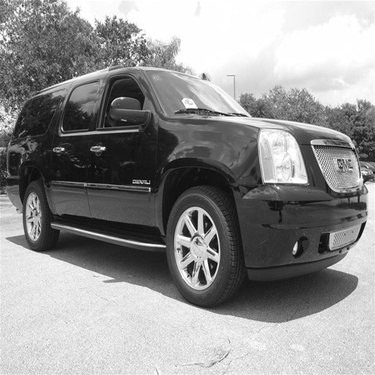car: (1, 50, 369, 292)
